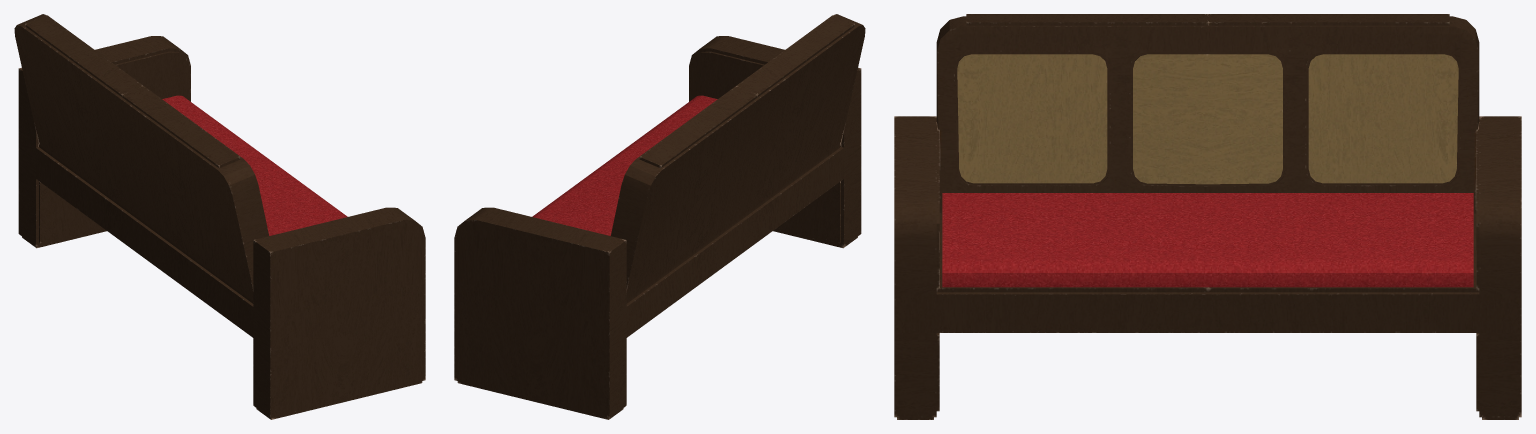
Rendered from OldSofa.fbx.
3 renders of one model, left to right at view 1: azimuth 30°, elevation 25°; view 2: azimuth 150°, elevation 25°; view 3: azimuth 270°, elevation 25°, orthographic. The views are drawn at different scales.
Parts seen in each view (by area): view 1: Couch Pillow.001; view 2: Couch Pillow.001; view 3: Couch Pillow.001.
Part boxes in pixels (left/top/right/bottom): Couch Pillow.001: left=14, top=14, right=425, bottom=419; Couch Pillow.001: left=454, top=14, right=865, bottom=419; Couch Pillow.001: left=894, top=14, right=1521, bottom=419.
Size of the model in its own units: 126 by 163 by 305.
Materials: 1 (1 with a texture image).
